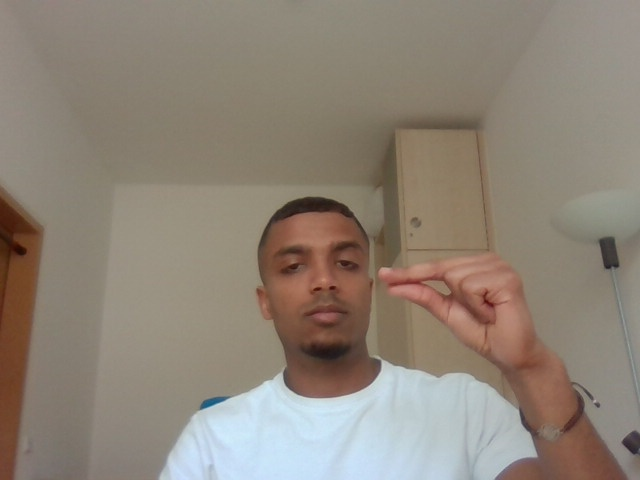no: (372, 241, 580, 384)
